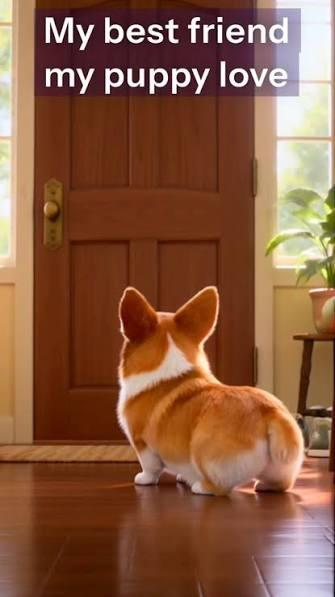adult_dog: (116, 285, 308, 496)
